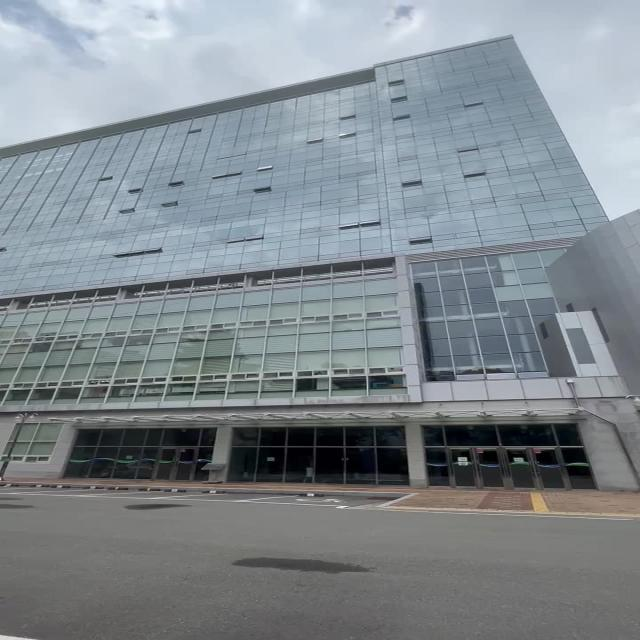building: (15, 68, 598, 465)
